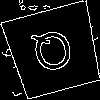Q: (28, 25, 79, 83)
